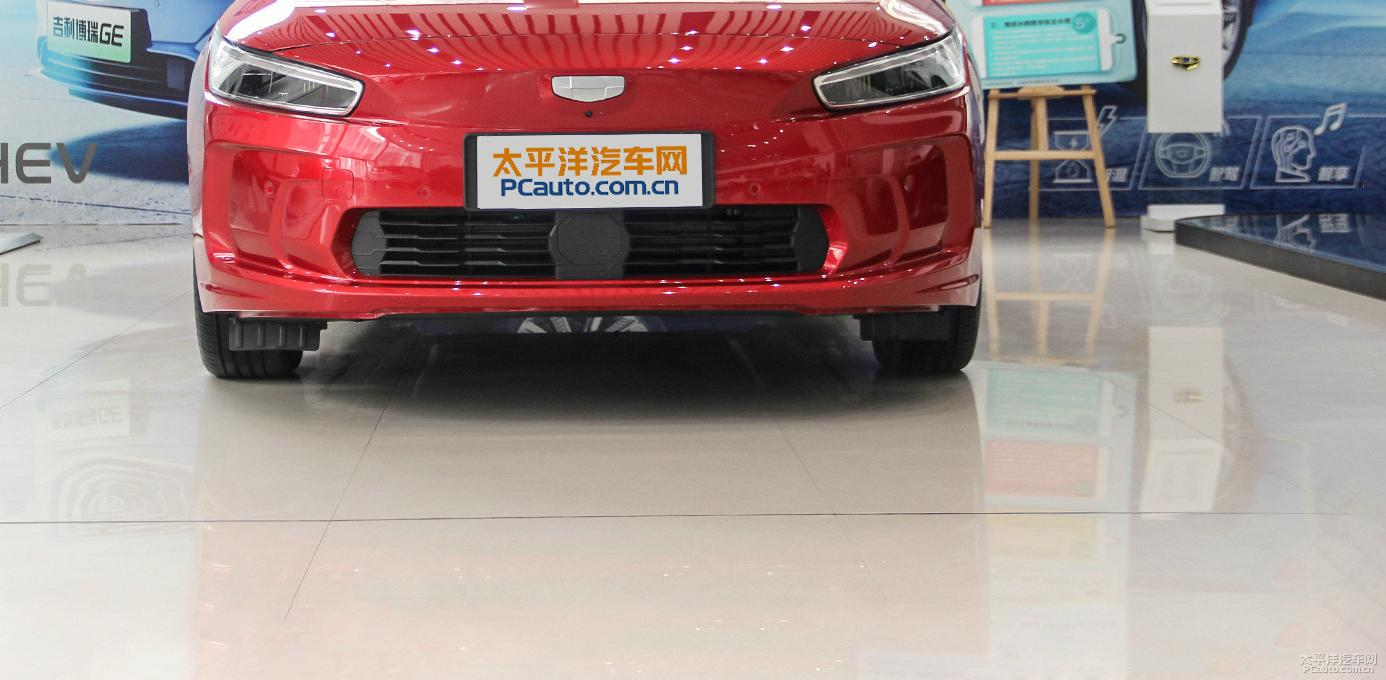GEOMETRY: (552, 76, 624, 101)
